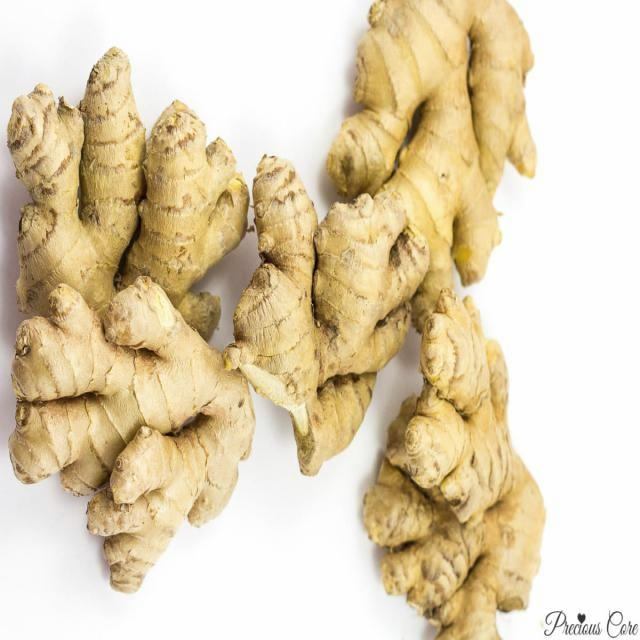ginger: (9, 277, 253, 590), (325, 0, 535, 317), (222, 156, 428, 473), (6, 46, 145, 314), (120, 100, 248, 337), (385, 289, 513, 521)
